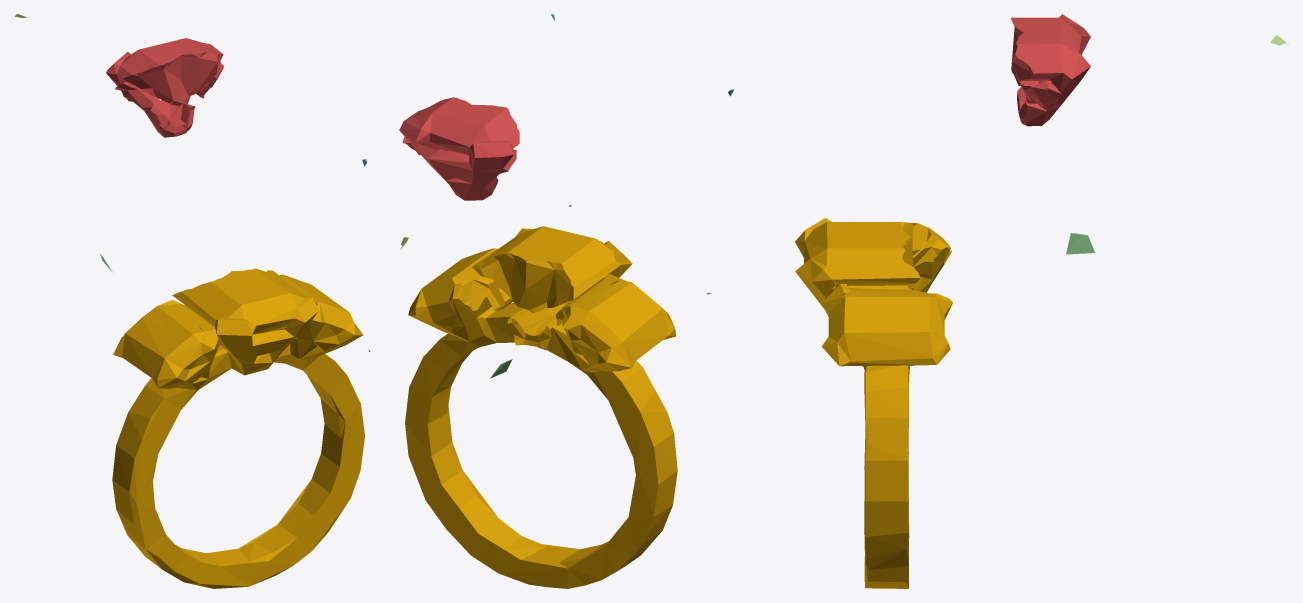
File: fractured_8_6pcs_transformed.glb
3 views of the same model, side by side, from view 1: azimuth 30°, elevation 25°; view 2: azimuth 150°, elevation 25°; view 3: azimuth 270°, elevation 25° (orthographic). The views are drawn at different scales.
Visible parts, largest first — view 1: piece_0.obj, piece_1.obj; view 2: piece_0.obj, piece_1.obj; view 3: piece_0.obj, piece_1.obj.
Part boxes in pixels (x1,y1,x2,y2): piece_0.obj: [112, 268, 364, 588]; piece_1.obj: [106, 38, 223, 137]; piece_0.obj: [405, 226, 677, 588]; piece_1.obj: [399, 97, 519, 200]; piece_0.obj: [795, 218, 952, 588]; piece_1.obj: [1011, 14, 1090, 126].
Size of the model in its own units: 0.8178 by 1.6 by 1.55.
